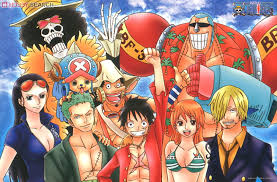chopper: (48, 54, 104, 96)
luffy: (119, 95, 157, 140)
